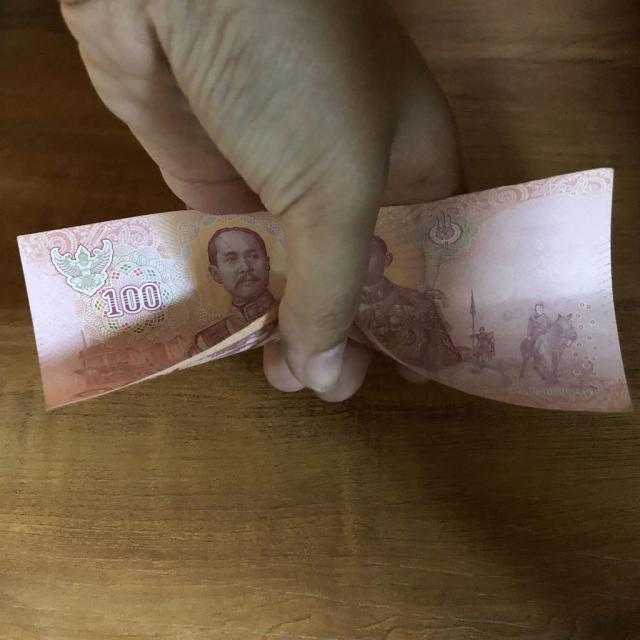THAI100: (351, 169, 622, 414), (16, 211, 281, 413)
